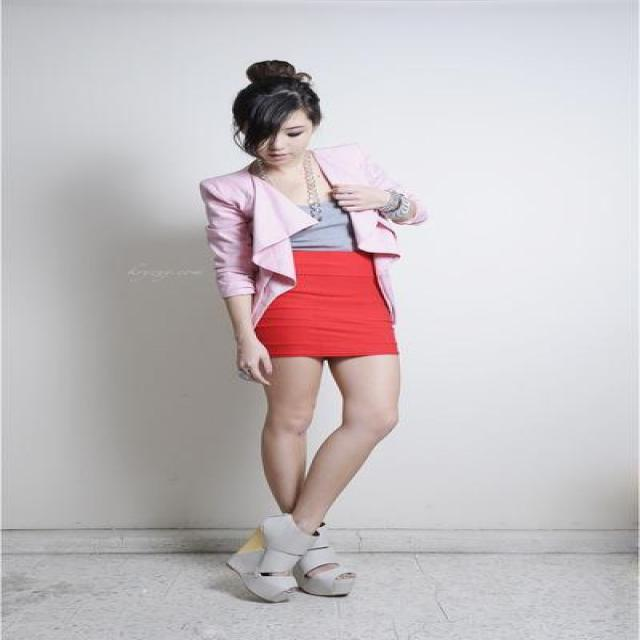jacket: (200, 158, 414, 305)
shirt: (289, 174, 356, 251)
shoe: (227, 508, 354, 602)
skirt: (254, 243, 398, 356)
